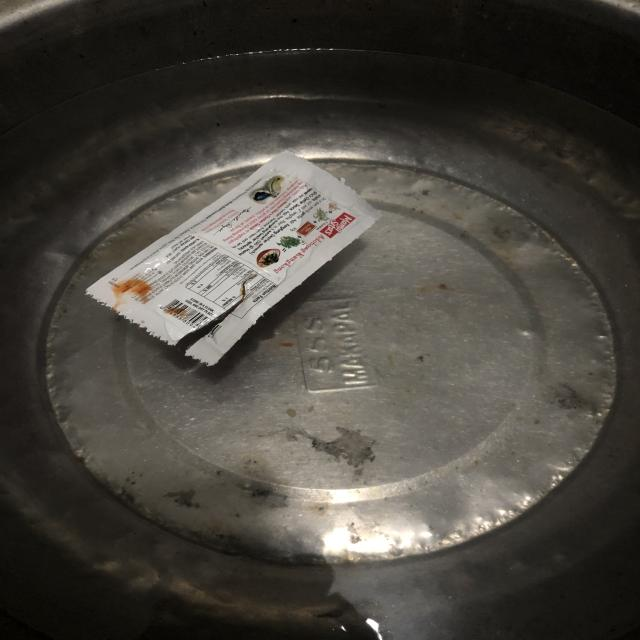Plastic Wrapper: (64, 133, 412, 375)
